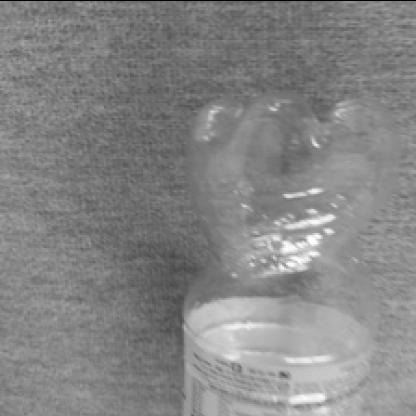plastic_bottles: (169, 71, 405, 416)
